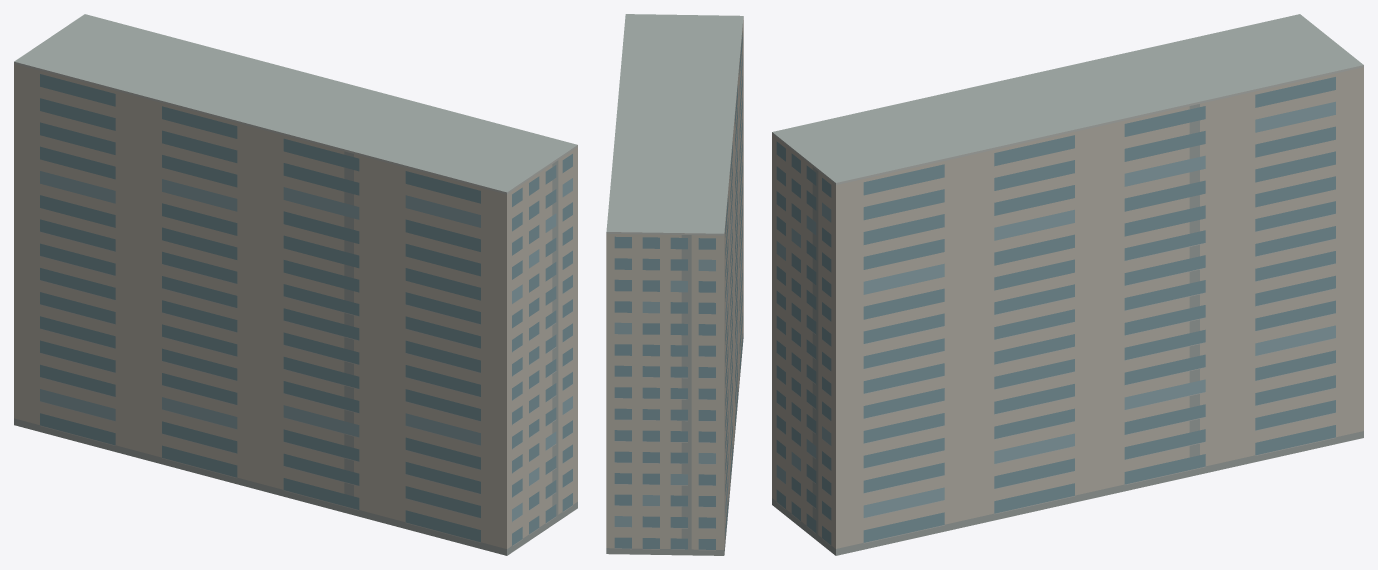
Rendered from residential-50402611-dc6c-433f-ad4d-24d0e26bcaba.glb.
3 renders of one model, left to right at view 1: azimuth 30°, elevation 25°; view 2: azimuth 150°, elevation 25°; view 3: azimuth 270°, elevation 25°, orthographic. The views are drawn at different scales.
Visible parts, largest first — view 1: residential-50402611-dc6c-433f-ad4d-24d0e26bcaba.tmp; view 2: residential-50402611-dc6c-433f-ad4d-24d0e26bcaba.tmp; view 3: residential-50402611-dc6c-433f-ad4d-24d0e26bcaba.tmp.
Part boxes in pixels (x1=…): residential-50402611-dc6c-433f-ad4d-24d0e26bcaba.tmp: x1=14, y1=14, x2=577, y2=555; residential-50402611-dc6c-433f-ad4d-24d0e26bcaba.tmp: x1=606, y1=14, x2=743, y2=555; residential-50402611-dc6c-433f-ad4d-24d0e26bcaba.tmp: x1=772, y1=14, x2=1363, y2=555.
Bounding box in the file's own units: 40.83 × 42 × 60.41.
